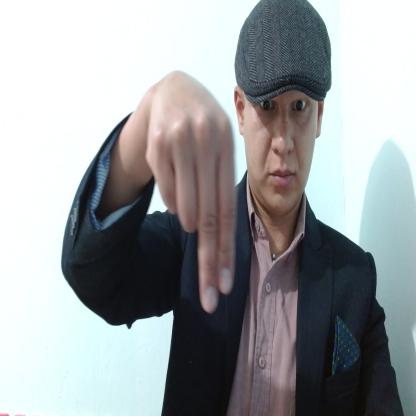N: (146, 71, 237, 314)
